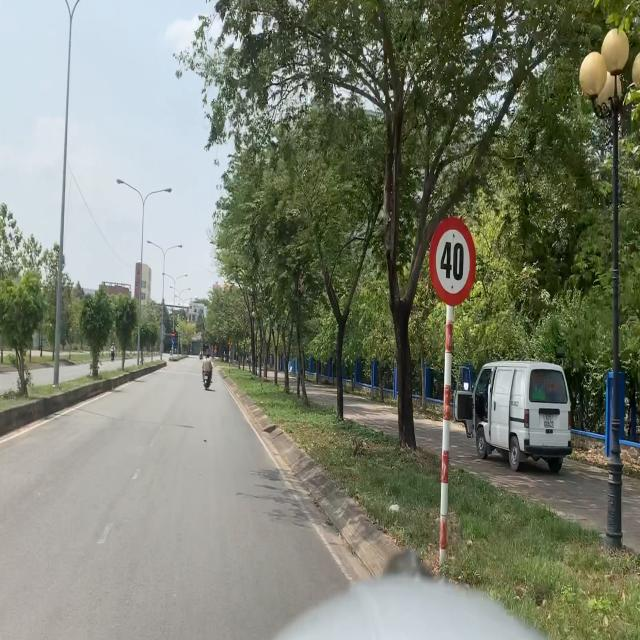Cam nguoc chieu: (171, 332, 175, 338)
Hieu lenh: (171, 339, 175, 344)
Toc do toi da: (429, 213, 478, 309)
